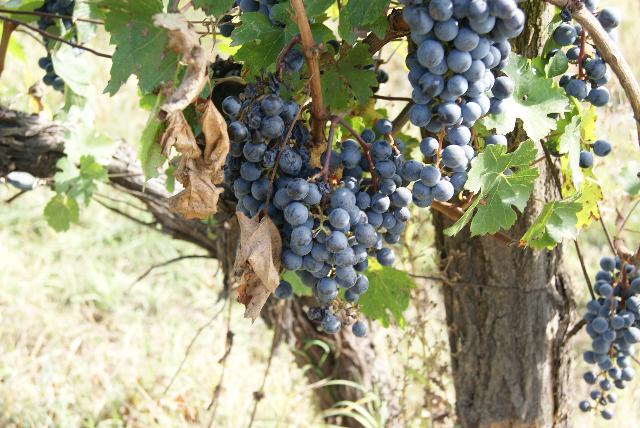grapes: (274, 178, 409, 338), (221, 92, 309, 215), (339, 129, 424, 242), (375, 118, 391, 136)
